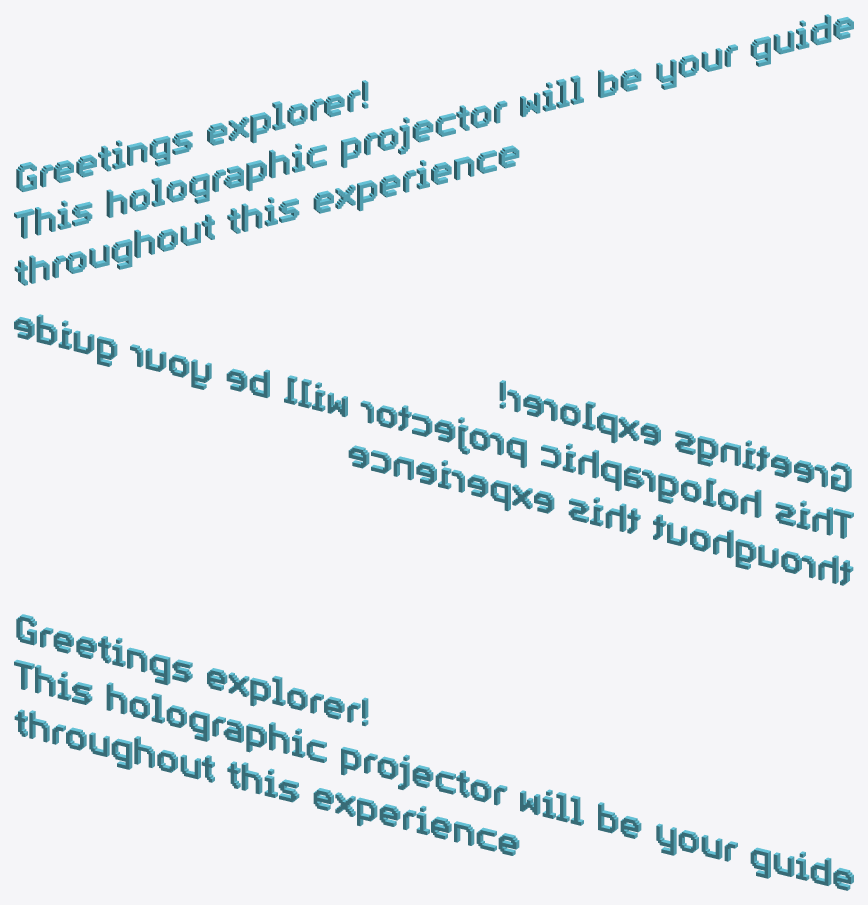
The picture shows the model from 3 angles, top to bottom: view 1: azimuth 30°, elevation 25°; view 2: azimuth 150°, elevation 25°; view 3: azimuth 330°, elevation 25°; orthographic projection.
Bounding box in the file's own units: 0.197 × 0.0286 × 0.0012.
